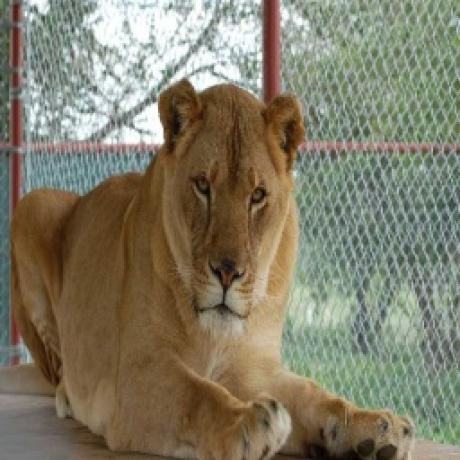Lion: (9, 76, 418, 460)
